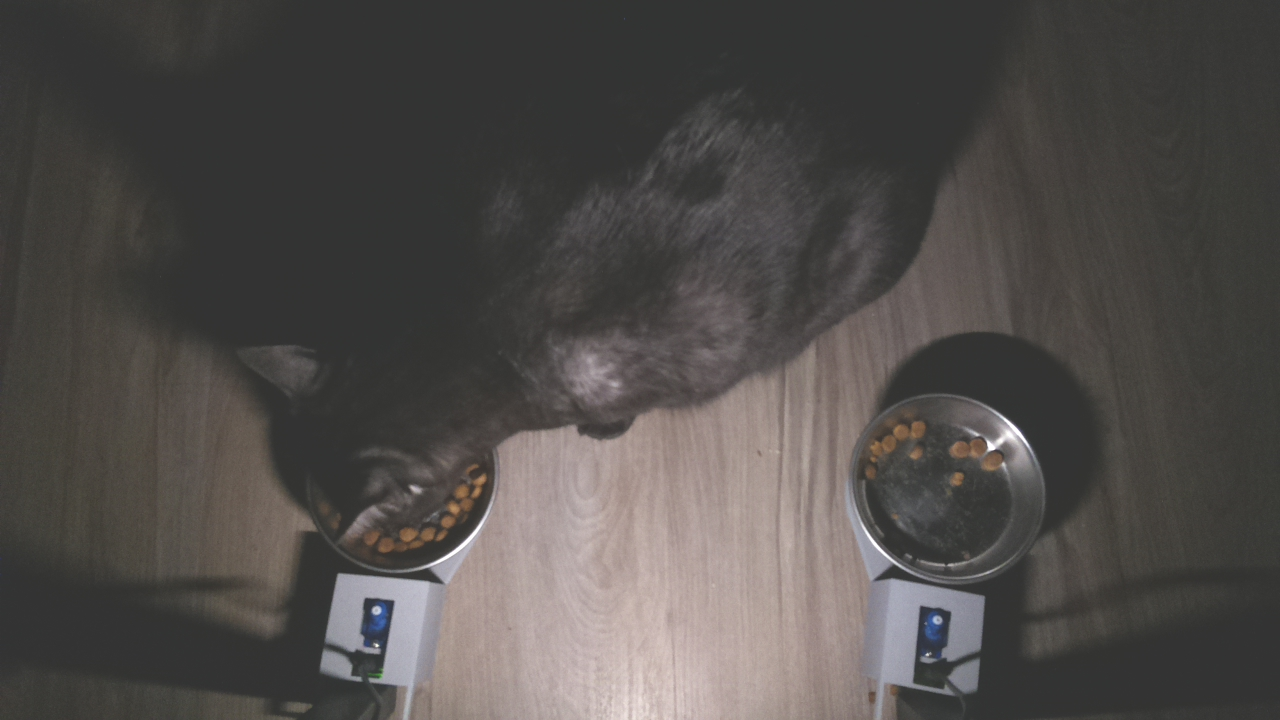open_bowl: (849, 382, 1062, 593)
saki_eating: (226, 298, 505, 573)
